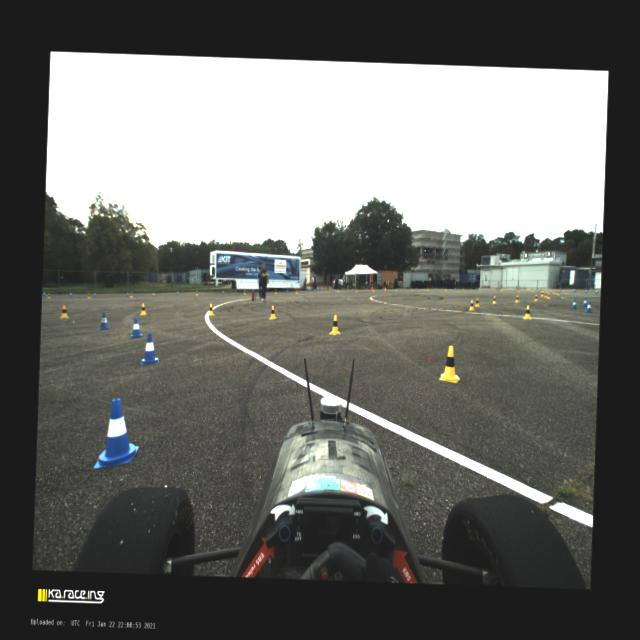blue_cone: (92, 397, 140, 472), (140, 332, 160, 364), (130, 317, 142, 338), (98, 312, 110, 330), (584, 301, 592, 313), (570, 298, 577, 310), (582, 297, 587, 306), (42, 290, 46, 296), (68, 291, 72, 297), (92, 290, 96, 296), (126, 291, 129, 297), (594, 289, 598, 293), (572, 288, 576, 292), (176, 290, 179, 295), (221, 289, 224, 294), (285, 288, 288, 293), (584, 288, 587, 293), (313, 288, 315, 292), (332, 288, 334, 292), (352, 287, 354, 291)
large_orange_cone: (383, 285, 386, 291), (370, 286, 372, 291)
yellow_cone: (438, 344, 461, 382), (329, 314, 342, 335), (59, 304, 69, 319), (523, 304, 532, 319), (268, 304, 276, 320), (140, 302, 148, 316), (208, 302, 215, 316), (468, 300, 474, 310), (491, 295, 497, 304), (474, 296, 479, 306), (514, 295, 520, 303), (46, 292, 51, 299), (86, 292, 91, 299), (534, 294, 538, 302), (130, 291, 134, 298), (556, 290, 560, 296), (195, 290, 198, 296), (242, 289, 245, 295), (295, 288, 298, 294), (547, 292, 550, 298), (554, 288, 557, 294), (274, 289, 277, 294), (540, 291, 543, 296), (336, 288, 339, 292), (544, 292, 546, 297), (552, 288, 554, 293), (355, 287, 357, 291), (372, 288, 374, 292)
